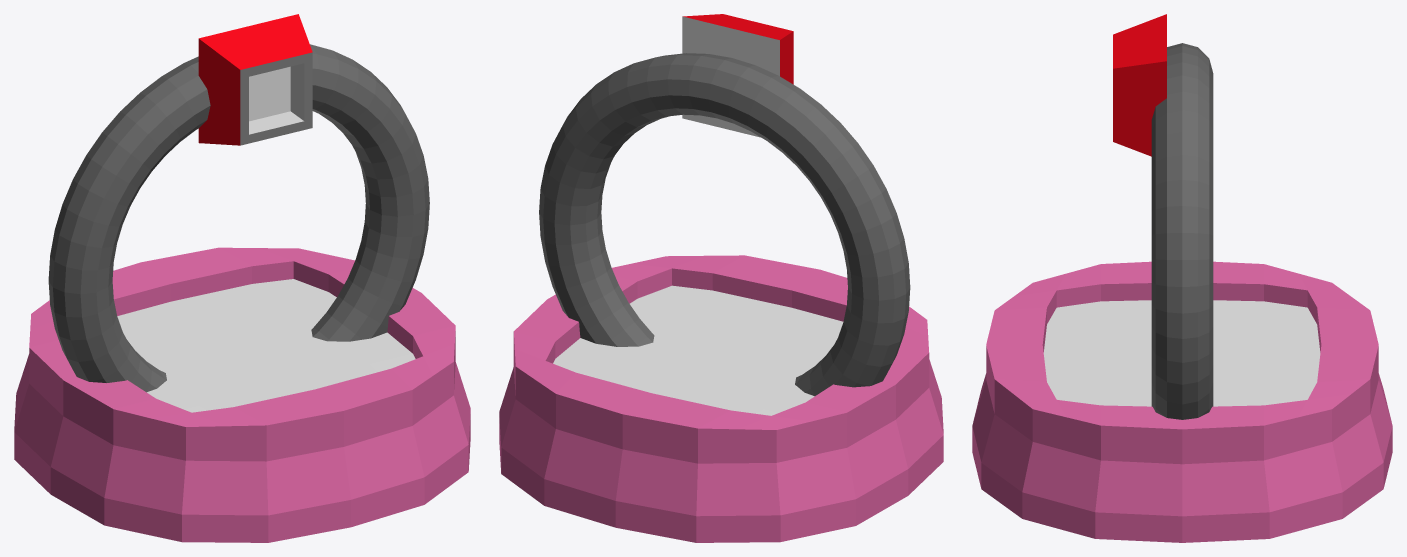
The model's file is podio2separado.fbx.
The picture shows the model from 3 angles, left to right: view 1: azimuth 30°, elevation 25°; view 2: azimuth 150°, elevation 25°; view 3: azimuth 270°, elevation 25°; orthographic projection. The views are drawn at different scales.
Visible parts, largest first — view 1: Cube.001; view 2: Cube.001; view 3: Cube.001.
Boxes of the visible parts, x1=… form: Cube.001: x1=14, y1=14, x2=470, y2=542; Cube.001: x1=499, y1=14, x2=943, y2=542; Cube.001: x1=972, y1=14, x2=1392, y2=542.
Size of the model in its own units: 640 by 682 by 628.
